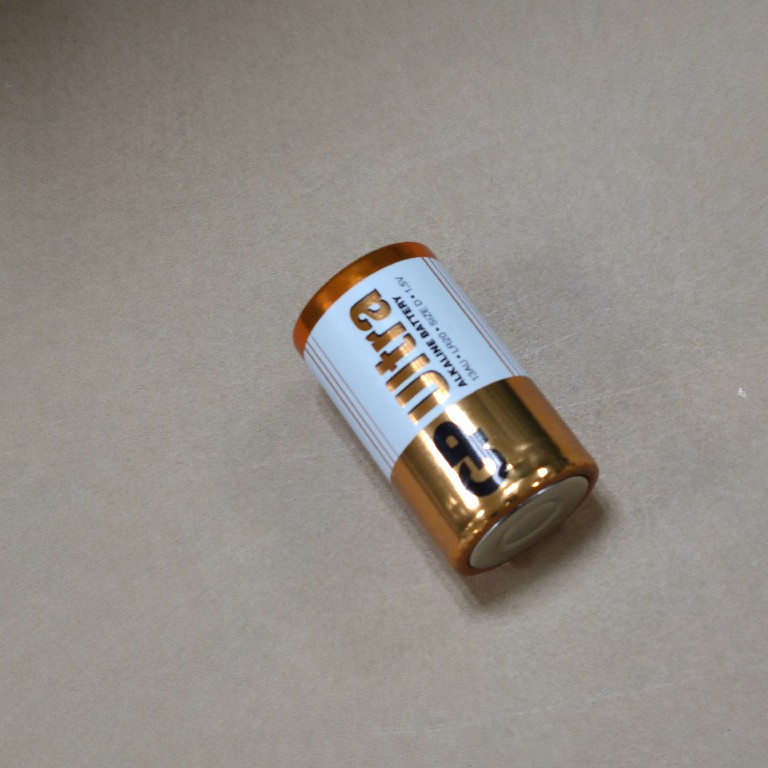charge: (286, 230, 604, 582)
